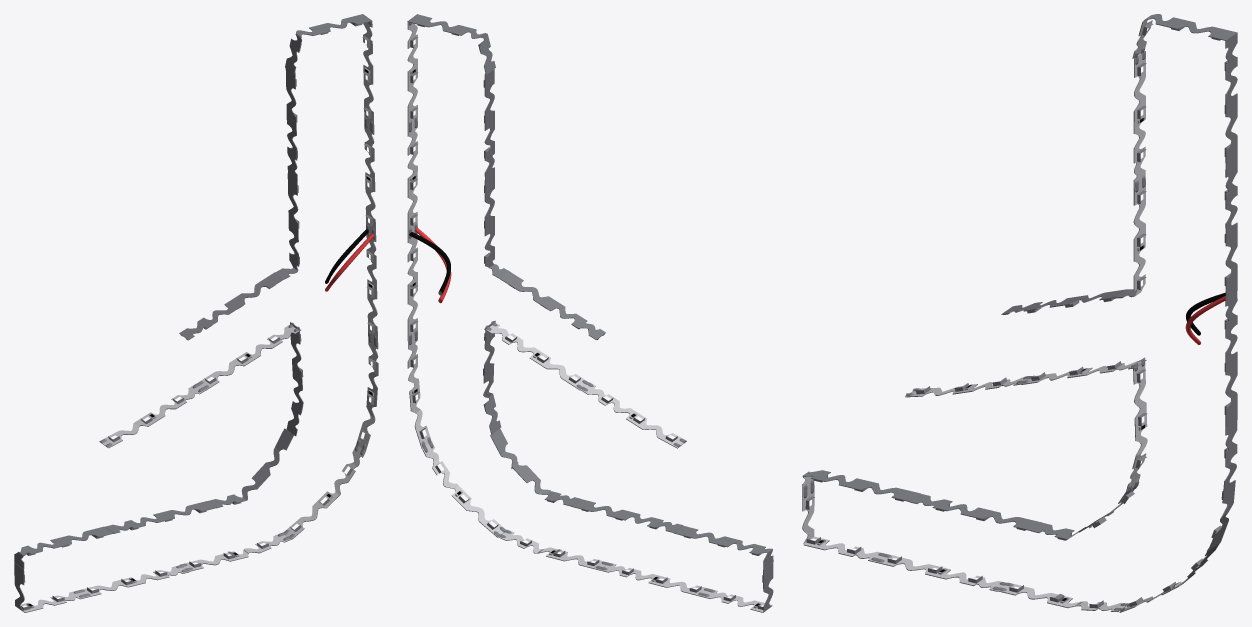
File: fixedled.glb
3 views of the same model, side by side, from view 1: azimuth 30°, elevation 25°; view 2: azimuth 150°, elevation 25°; view 3: azimuth 330°, elevation 25° (orthographic). The views are drawn at different scales.
Parts seen in each view (by area): view 1: fixed-led; view 2: fixed-led; view 3: fixed-led.
Boxes of the visible parts, x1,y1,x2,y2 form: fixed-led: [14, 14, 378, 612]; fixed-led: [407, 14, 773, 612]; fixed-led: [802, 14, 1237, 612].
Bounding box in the file's own units: 35.99 × 48.97 × 2.74.
